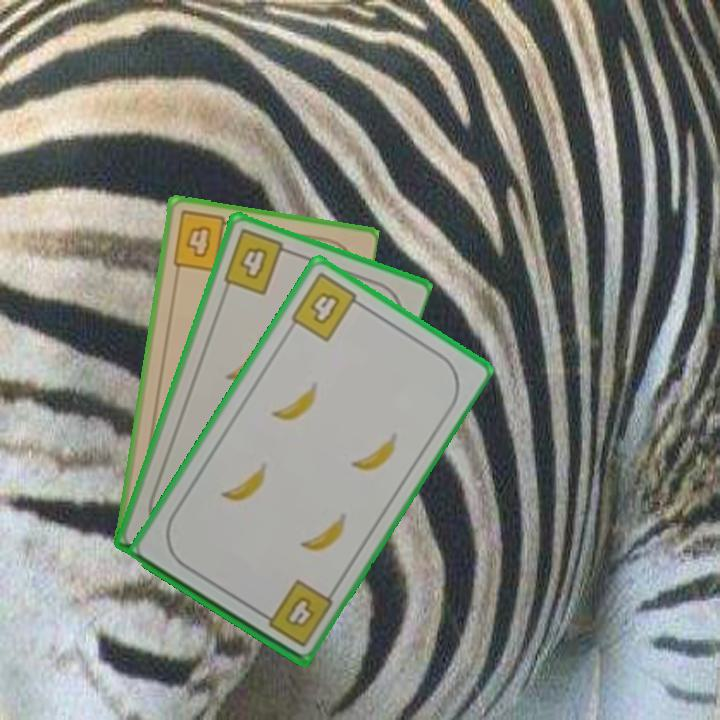4b: (287, 269, 368, 345), (254, 575, 336, 650), (219, 225, 295, 298), (169, 207, 238, 275)
